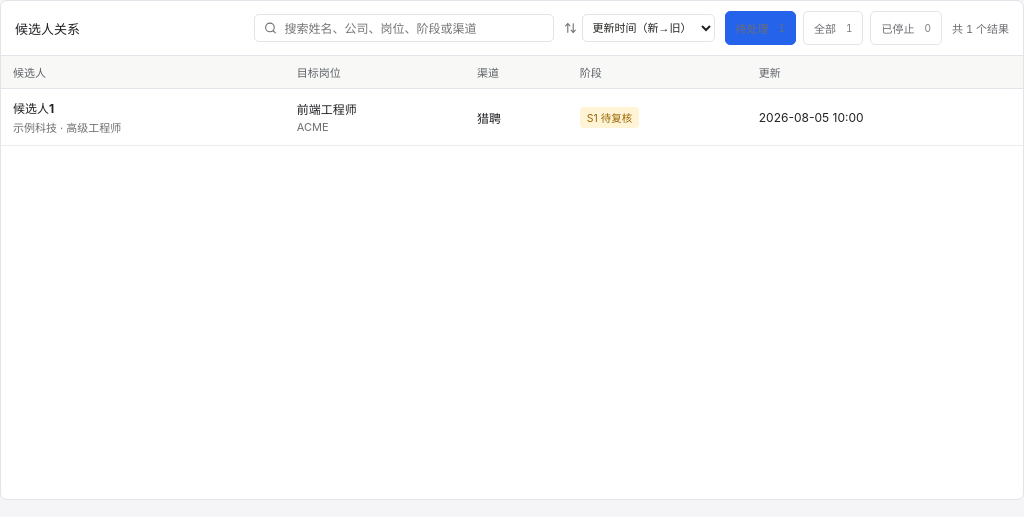
Test case: 候选人列表 Candidates › 某范围无结果时显示可靠空态
Click the button "已停止 0" at (906,28), box [870, 11, 942, 45]
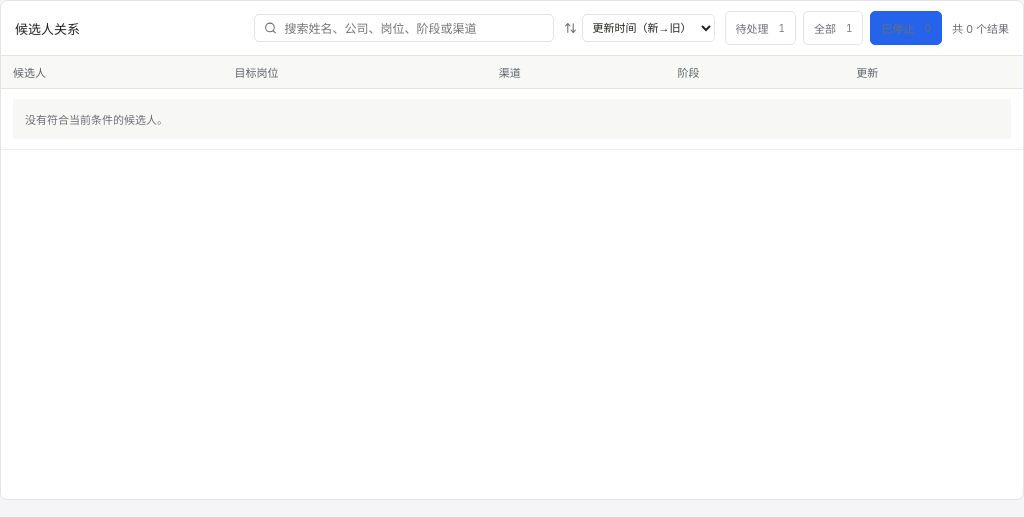
expect the message reads "共 0 个结果": met, box [952, 22, 1009, 36]
expect the text "没有符合当前条件的候选人。" is shown: met, box [13, 99, 1011, 139]
